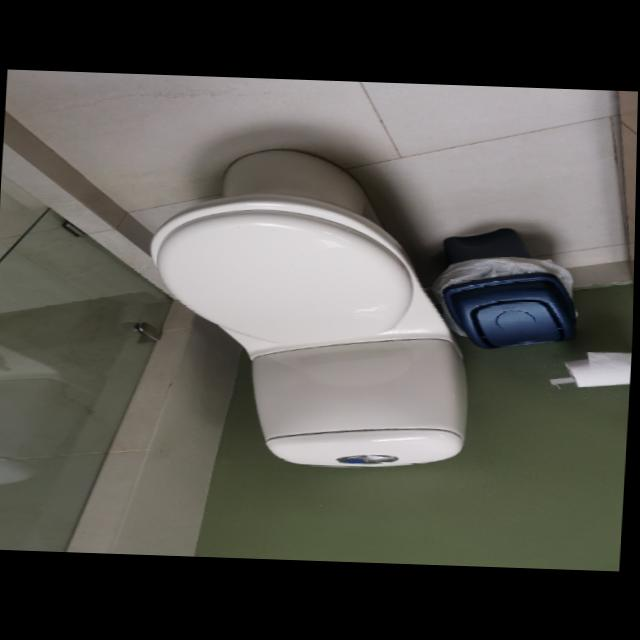toilet: (139, 145, 485, 473)
